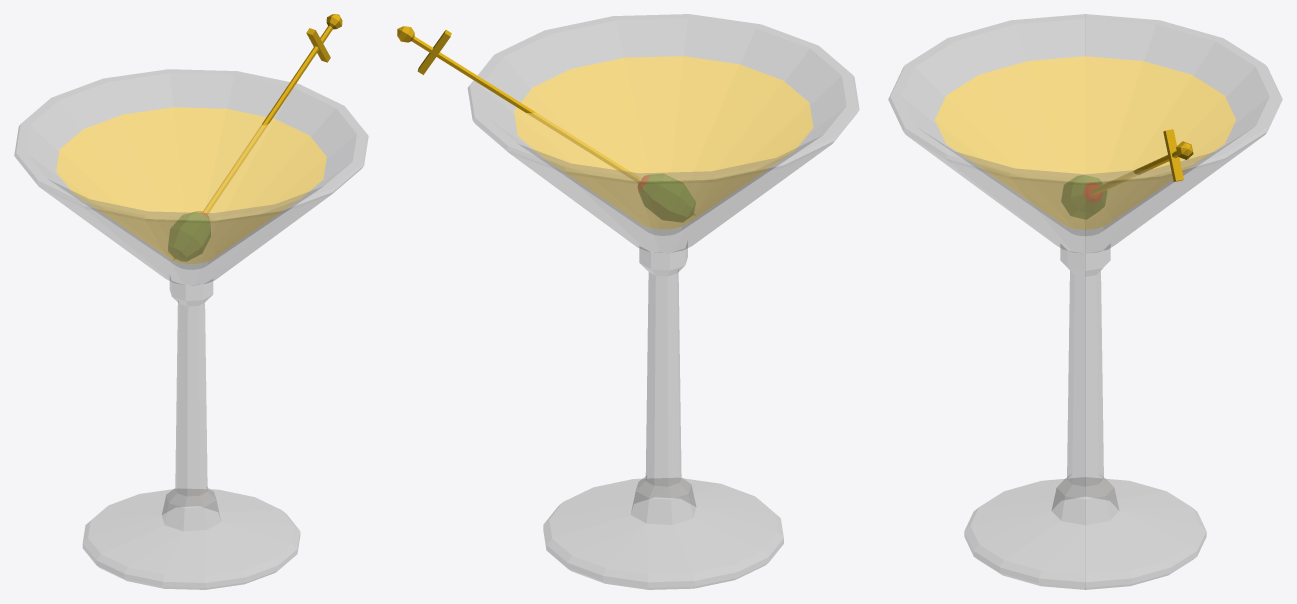
File: martini-glass-c78705.glb
3 renders of one model, left to right at view 1: azimuth 30°, elevation 25°; view 2: azimuth 150°, elevation 25°; view 3: azimuth 270°, elevation 25°, orthographic. The views are drawn at different scales.
Parts seen in each view (by area): view 1: glass, drink, olive-pick-mesh; view 2: glass, drink, olive-pick-mesh; view 3: glass, drink, olive-pick-mesh.
Part boxes in pixels (box(x1,y1,x2,y2)): glass: box(14, 69, 368, 589); drink: box(56, 107, 326, 263); olive-pick-mesh: box(168, 14, 342, 261); glass: box(468, 14, 859, 589); drink: box(514, 56, 813, 229); olive-pick-mesh: box(397, 26, 695, 222); glass: box(888, 14, 1282, 589); drink: box(935, 56, 1235, 229); olive-pick-mesh: box(1061, 129, 1193, 219).
Size of the model in its own units: 0.1637 by 0.2024 by 0.145.
